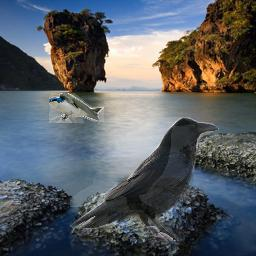Crow: (70, 117, 219, 241)
Swallow: (49, 93, 104, 123)
